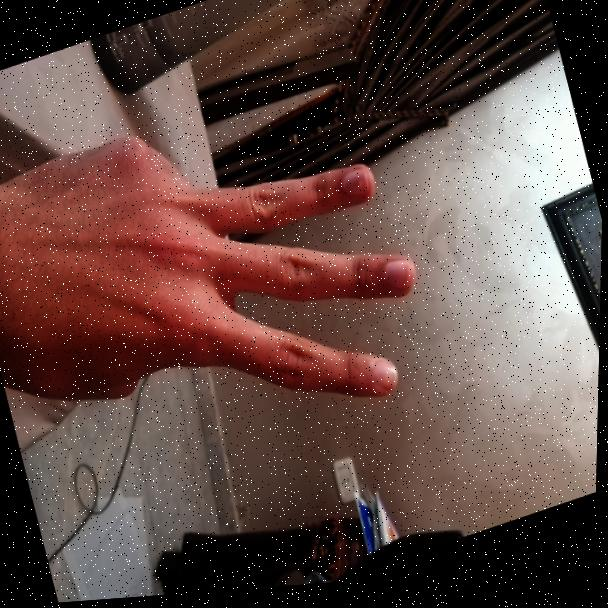five: (0, 62, 448, 514)
